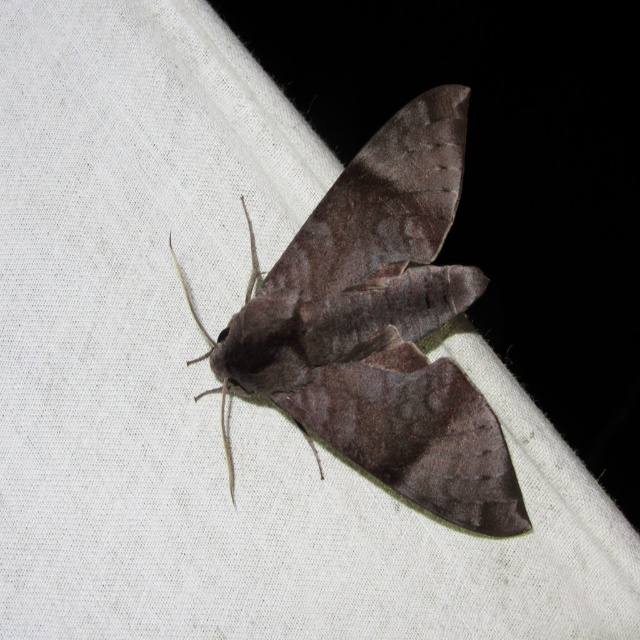Moths and butterflies: (168, 82, 536, 542)
